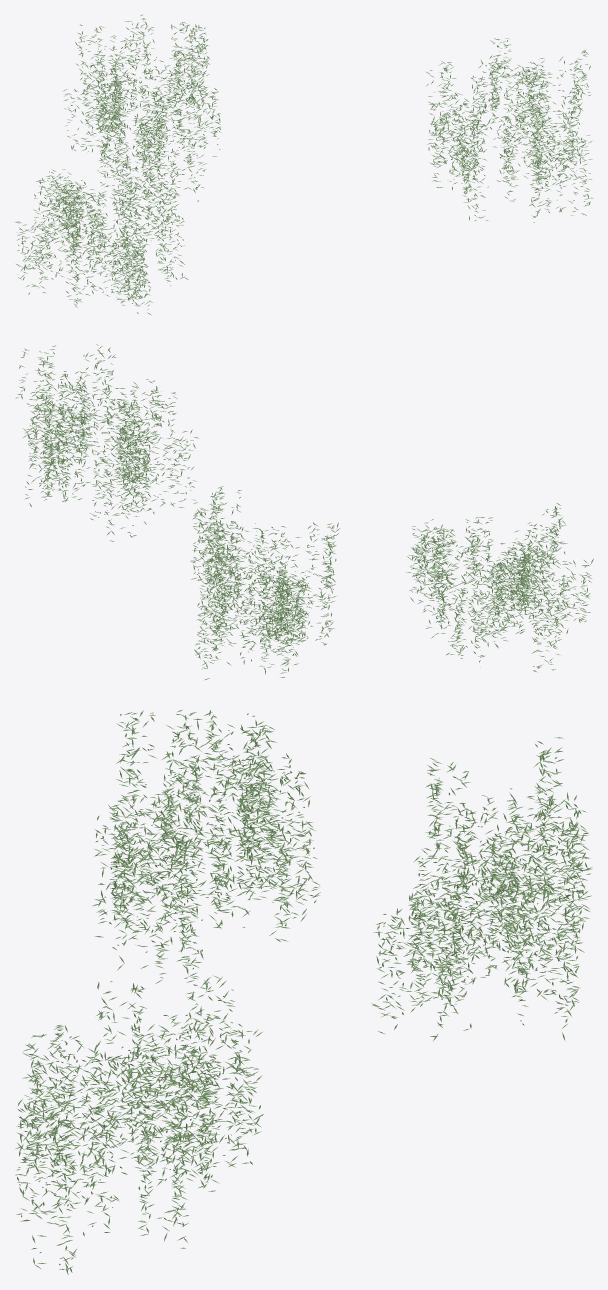
Rendered from xiyuan-vegetation-14-near.glb.
3 renders of one model, top to bottom at view 1: azimuth 30°, elevation 25°; view 2: azimuth 150°, elevation 25°; view 3: azimuth 270°, elevation 25°, orthographic. The views are drawn at different scales.
Parts seen in each view (by area): view 1: vegetation willow leaves.003; view 2: vegetation willow leaves.003; view 3: vegetation willow leaves.003.
Part boxes in pixels (x1,y1,x2,y2): vegetation willow leaves.003: (15, 14, 593, 315); vegetation willow leaves.003: (15, 344, 593, 680); vegetation willow leaves.003: (15, 710, 592, 1274).
Size of the model in its own units: 28.81 by 8.85 by 16.3.
